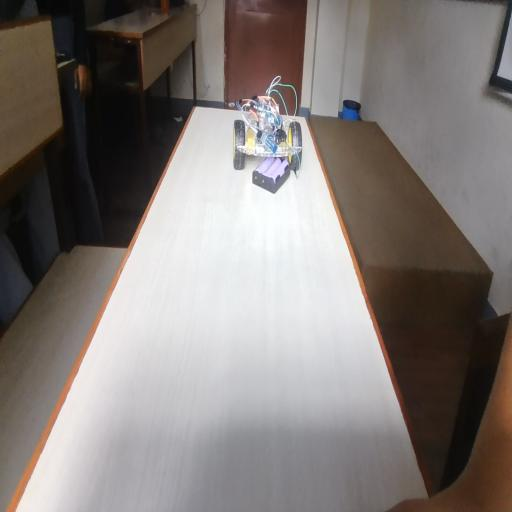car: (222, 86, 307, 194)
